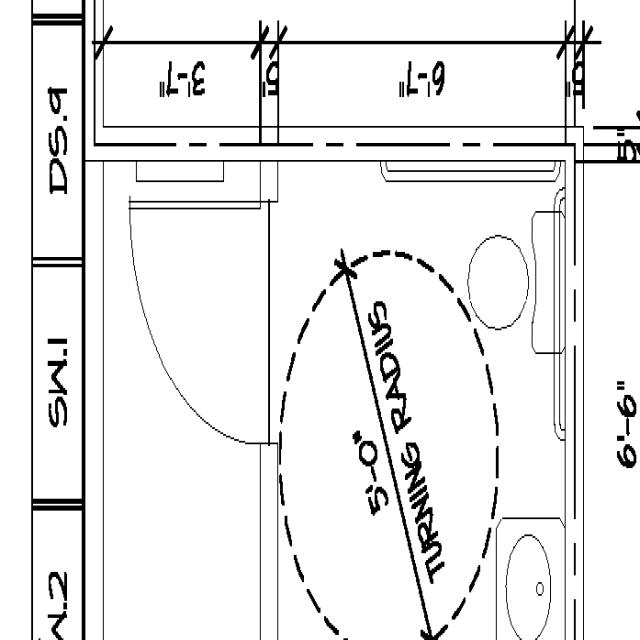Doors: (125, 194, 274, 456)
